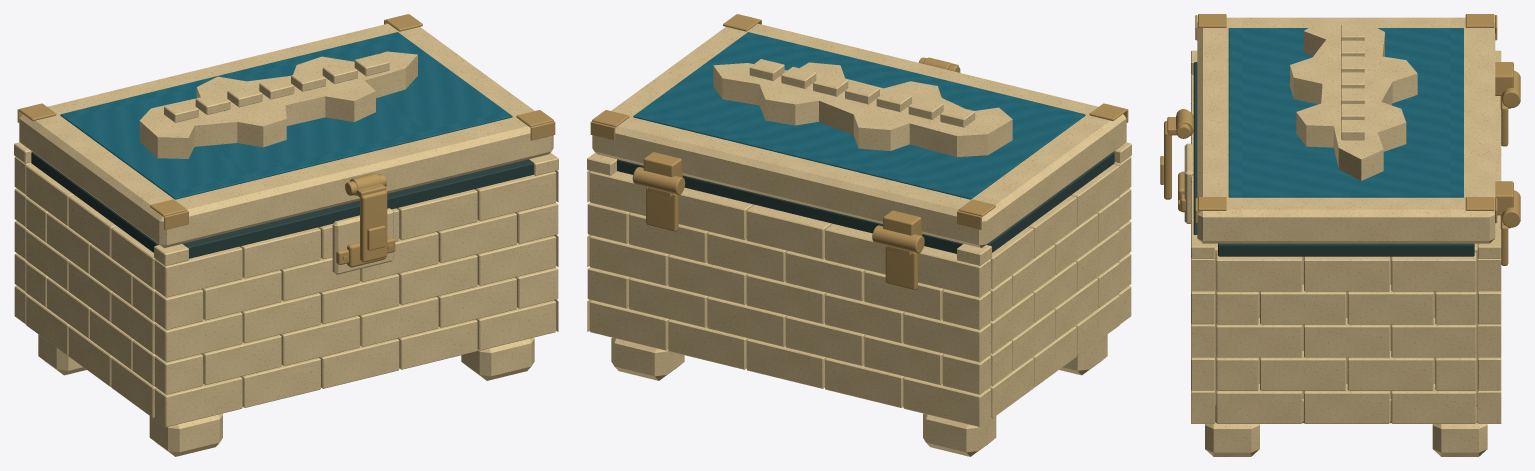
File: malta.glb
3 views of the same model, side by side, from view 1: azimuth 30°, elevation 25°; view 2: azimuth 150°, elevation 25°; view 3: azimuth 270°, elevation 25° (orthographic). The views are drawn at different scales.
Parts seen in each view (by area): view 1: Lid / polished slab, Harbour / water inlay, Peninsula / angular bastions, Seam / long, Ashlar / long.048, Ashlar / long.024, Ashlar / long, Ashlar / long.051, Ashlar / long.049, Ashlar / long.052, Ashlar / long.004, Ashlar / long.014 (+50 smaller); view 2: Lid / polished slab, Harbour / water inlay, Peninsula / angular bastions, Seam / long.001, Ashlar / long.056, Ashlar / long.030, Ashlar / long.006, Ashlar / long.057, Ashlar / long.010, Ashlar / long.020, Ashlar / long.034, Ashlar / long.044 (+54 smaller); view 3: Harbour / water inlay, Lid / polished slab, Peninsula / angular bastions, Seam / side.001, Ashlar / side.031, Ashlar / side.033, Ashlar / side.032, Ashlar / side.026, Ashlar / side.012, Ashlar / side.017, Ashlar / side.019, Ashlar / side.025 (+42 smaller).
Boxes of the visible parts, x1,y1,x2,y2 form: Lid / polished slab: (19, 23, 553, 248); Harbour / water inlay: (60, 32, 512, 199); Peninsula / angular bastions: (139, 51, 417, 158); Seam / long: (182, 159, 533, 258); Ashlar / long.048: (154, 246, 242, 297); Ashlar / long.024: (154, 312, 242, 362); Ashlar / long: (154, 377, 242, 427); Ashlar / long.051: (396, 189, 477, 240); Ashlar / long.049: (239, 227, 320, 278); Ashlar / long.052: (475, 171, 556, 220); Ashlar / long.004: (476, 300, 556, 350); Ashlar / long.014: (280, 316, 360, 365); Lid / polished slab: (592, 23, 1126, 248); Harbour / water inlay: (633, 32, 1085, 199); Peninsula / angular bastions: (713, 62, 1012, 157); Seam / long.001: (617, 159, 963, 253); Ashlar / long.056: (746, 205, 832, 259); Ashlar / long.030: (903, 312, 991, 362); Ashlar / long.006: (903, 377, 991, 427); Ashlar / long.057: (678, 187, 754, 240); Ashlar / long.010: (589, 300, 669, 350); Ashlar / long.020: (785, 316, 865, 365); Ashlar / long.034: (589, 235, 669, 285); Ashlar / long.044: (785, 251, 865, 301); Harbour / water inlay: (1228, 28, 1463, 197); Lid / polished slab: (1197, 17, 1495, 243); Peninsula / angular bastions: (1290, 20, 1417, 180); Seam / side.001: (1218, 243, 1474, 256); Ashlar / side.031: (1216, 252, 1302, 291); Ashlar / side.033: (1391, 252, 1476, 291); Ashlar / side.032: (1304, 256, 1389, 291); Ashlar / side.026: (1347, 284, 1433, 324); Ashlar / side.012: (1347, 351, 1433, 390); Ashlar / side.017: (1216, 318, 1302, 357); Ashlar / side.019: (1391, 318, 1476, 357); Ashlar / side.025: (1260, 284, 1345, 324).
Bounding box in the file's own units: 3.72 × 2.54 × 2.88.
4 materials, 2 textured.
